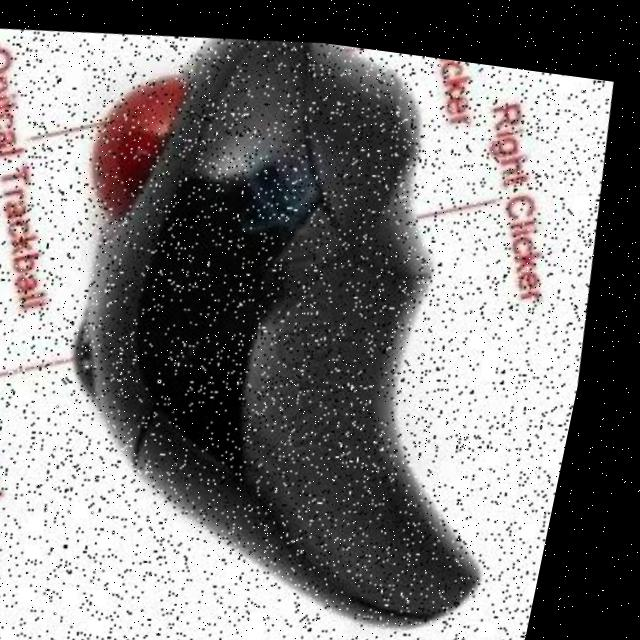mause: (0, 2, 640, 640)
